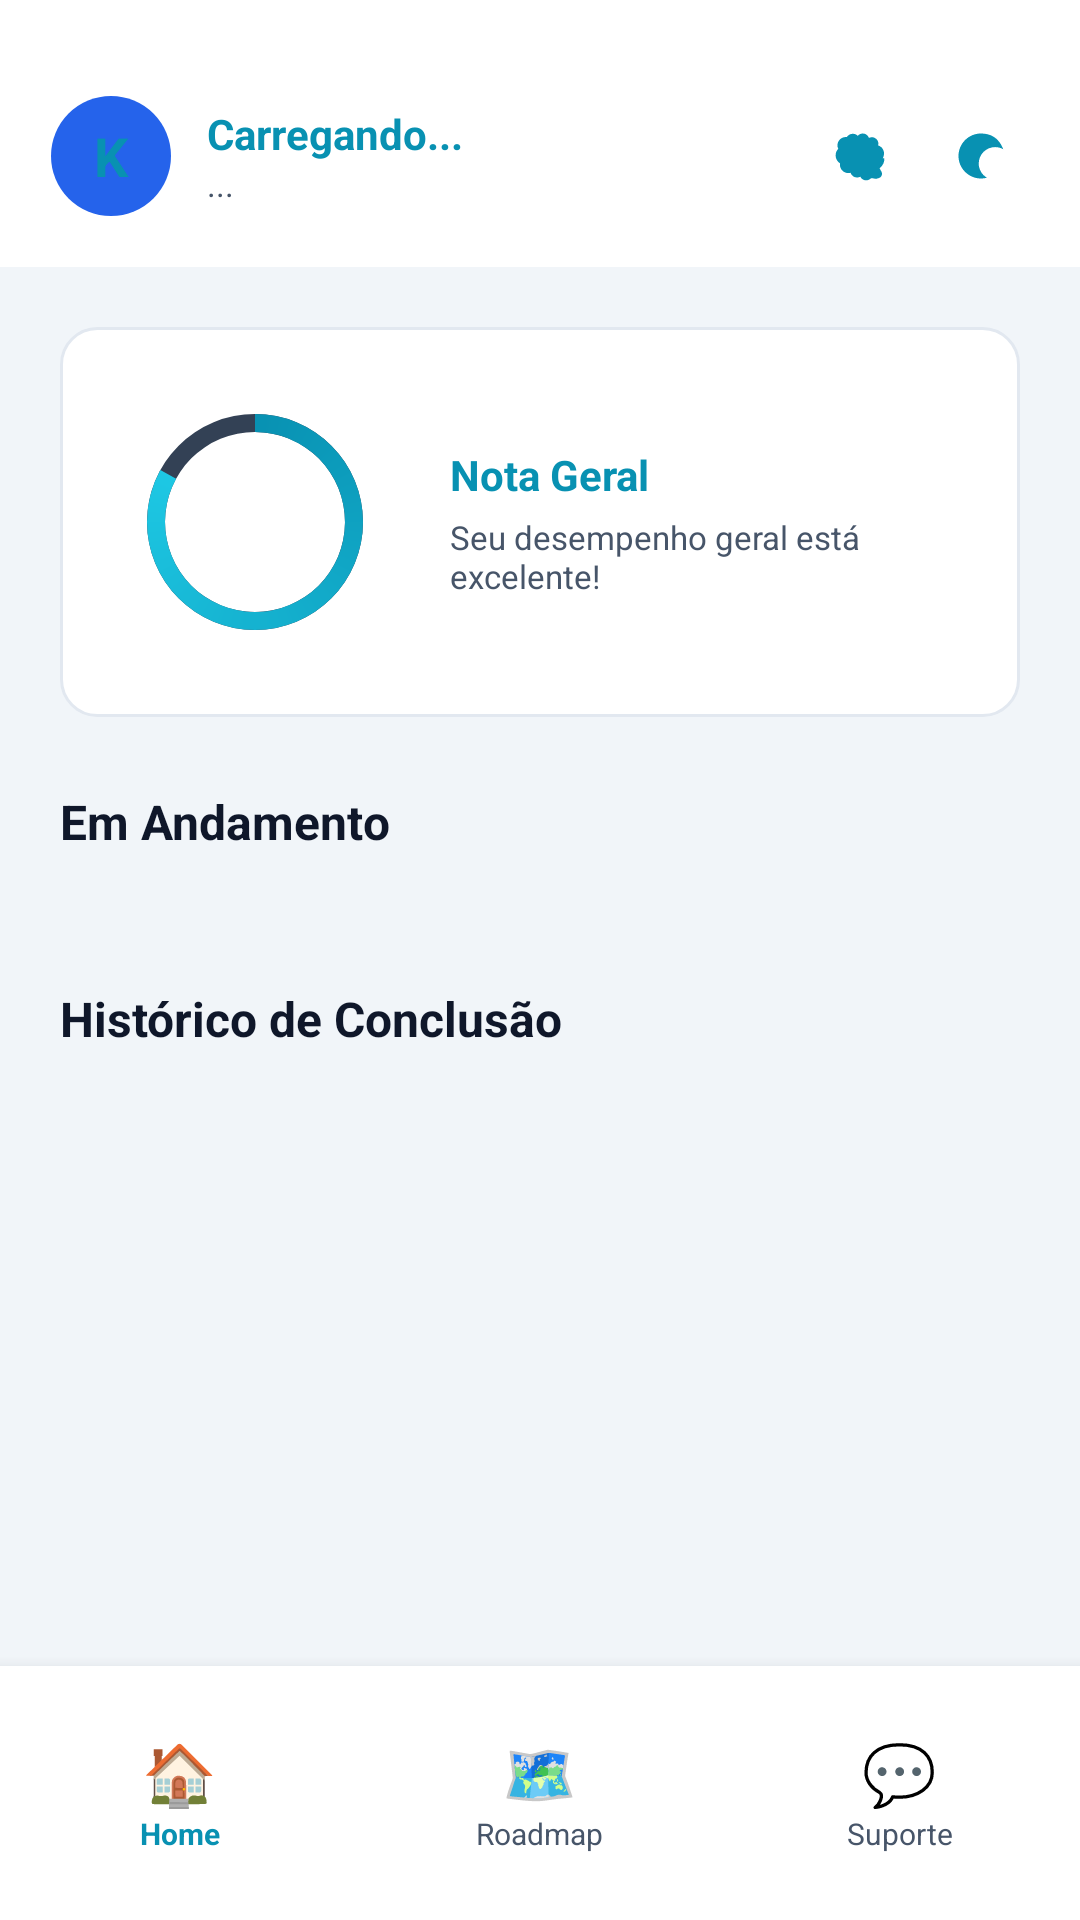

Icons on this 1080px×1920px Android screen, each with its box as (x1, y1, x2, y2):
brain: (835, 133, 885, 181)
moon: (958, 133, 1003, 179)
